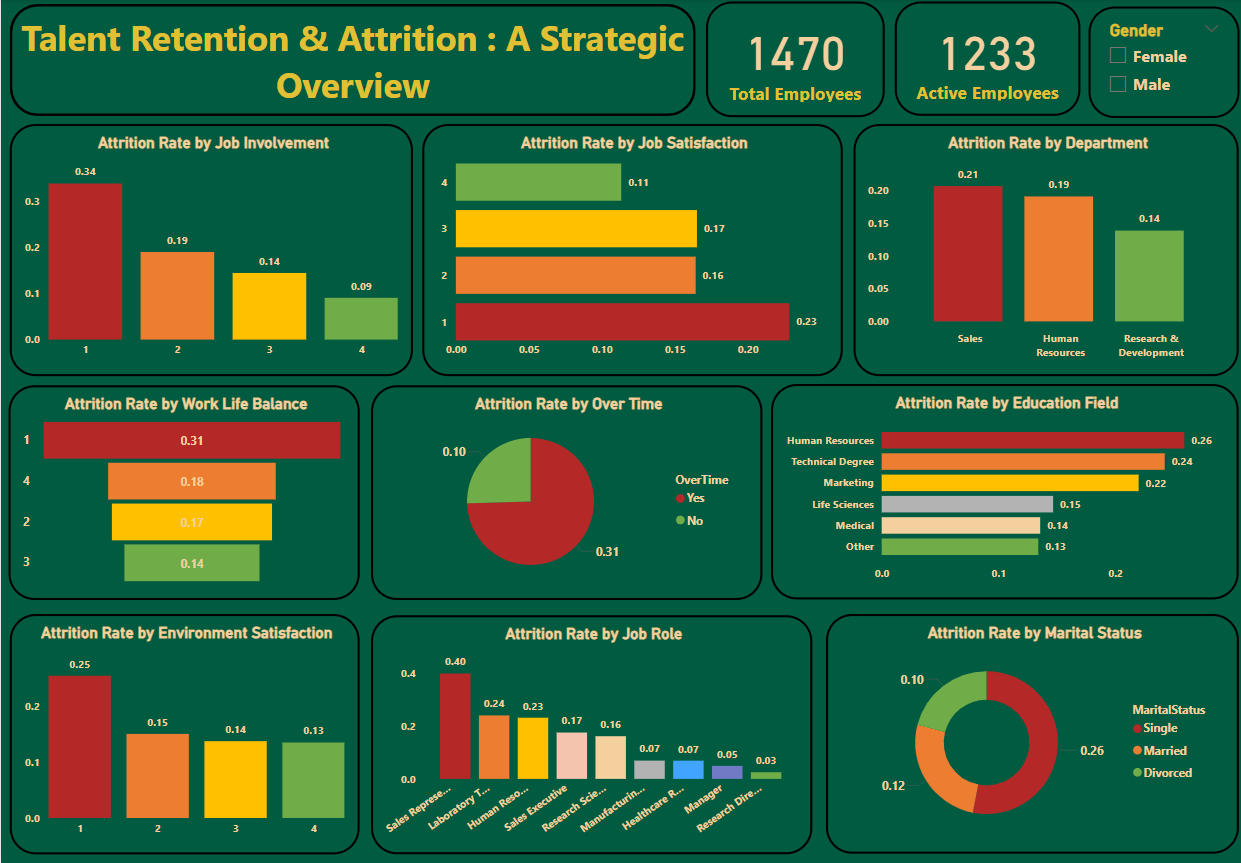

Layout of this report page (visuals, bound fields, positions):
{"tool":"powerbi","page":{"name":"Page 1","canvas":[1435,1000],"ordinal":0},"visuals":[{"type":"shape","box":[9.5,6.3,792.2,129.4],"z":0},{"type":"columnChart","title":"Attrition Rate by Job Involvement","fields":{"Category":["Sheet1.JobInvolvement"],"Y":["Avg(Sheet1.Attrition Rate)"]},"box":[9.7,144,465.8,291.1],"z":1000},{"type":"clusteredBarChart","title":"Attrition Rate by Job Satisfaction","fields":{"Category":["Sheet1.JobSatisfaction"],"Y":["Avg(Sheet1.Attrition Rate)"]},"box":[486.9,144,485.2,291.1],"z":2000},{"type":"funnel","title":"Attrition Rate by Work Life Balance","fields":{"Category":["Sheet1.WorkLifeBalance"],"Y":["Avg(Sheet1.Attrition Rate)"]},"box":[8.7,445.8,405.4,248.2],"z":3000},{"type":"pieChart","title":"Attrition Rate by Over Time","fields":{"Category":["Sheet1.OverTime"],"Y":["Avg(Sheet1.Attrition Rate)"]},"box":[427,446,452,248],"z":4000},{"type":"columnChart","title":"Attrition Rate by Department","fields":{"Category":["Sheet1.Department"],"Y":["Avg(Sheet1.Attrition Rate)"]},"box":[985,144,444.8,291.1],"z":5000},{"type":"clusteredBarChart","title":"Attrition Rate by Education Field","fields":{"Category":["Sheet1.EducationField"],"Y":["Avg(Sheet1.Attrition Rate)"]},"box":[889.6,444.8,540.2,249.1],"z":6000},{"type":"columnChart","title":"Attrition Rate by Environment Satisfaction","fields":{"Category":["Sheet1.EnvironmentSatisfaction"],"Y":["Avg(Sheet1.Attrition Rate)"]},"box":[9.5,710.1,404,277.7],"z":7000},{"type":"columnChart","title":"Attrition Rate by Job Role","fields":{"Category":["Sheet1.JobRole"],"Y":["Avg(Sheet1.Attrition Rate)"]},"box":[427.6,711.7,509.7,276.2],"z":8000},{"type":"donutChart","title":"Attrition Rate by Marital Status","fields":{"Category":["Sheet1.MaritalStatus"],"Y":["Avg(Sheet1.Attrition Rate)"]},"box":[952.7,710.1,477.2,276.6],"z":9000},{"type":"slicer","fields":{"Values":["Sheet1.Gender"]},"box":[1255.6,8.1,174.1,128.9],"z":10000},{"type":"card","fields":{"Values":["Sum(Sheet1.EmployeeCount)"]},"box":[814,3.2,206.3,133.8],"z":11000},{"type":"card","fields":{"Values":["Sum(Sheet1.EmployeeCount)"]},"box":[1031.6,3.2,214.4,132.2],"z":12000}]}

Visuals, with their boxes in screenshot pixels (x1, y1, x2, y2), scaled from the page's 1435x1000 canvas onto the 1241x863 screenshot:
shape: box(8, 5, 693, 117)
"Attrition Rate by Job Involvement" columnChart: box(8, 124, 411, 375)
"Attrition Rate by Job Satisfaction" clusteredBarChart: box(421, 124, 841, 375)
"Attrition Rate by Work Life Balance" funnel: box(8, 385, 358, 599)
"Attrition Rate by Over Time" pieChart: box(369, 385, 760, 599)
"Attrition Rate by Department" columnChart: box(852, 124, 1237, 375)
"Attrition Rate by Education Field" clusteredBarChart: box(769, 384, 1237, 599)
"Attrition Rate by Environment Satisfaction" columnChart: box(8, 613, 358, 852)
"Attrition Rate by Job Role" columnChart: box(370, 614, 811, 853)
"Attrition Rate by Marital Status" donutChart: box(824, 613, 1237, 852)
slicer - Sheet1.Gender: box(1086, 7, 1236, 118)
card - Sum(Sheet1.EmployeeCount): box(704, 3, 882, 118)
card - Sum(Sheet1.EmployeeCount): box(892, 3, 1078, 117)
